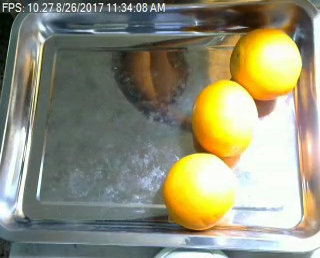Orange: (163, 152, 237, 230), (191, 79, 259, 157), (231, 28, 303, 101)
